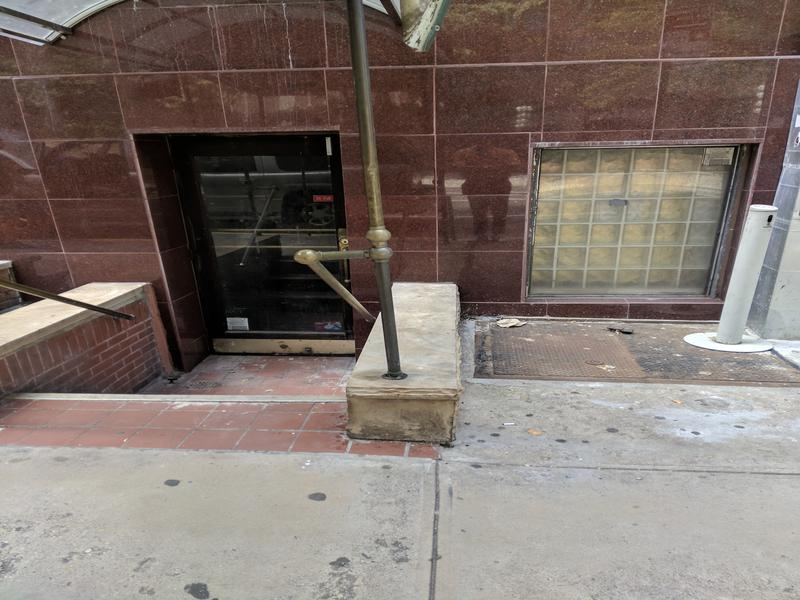door: (168, 130, 377, 366)
